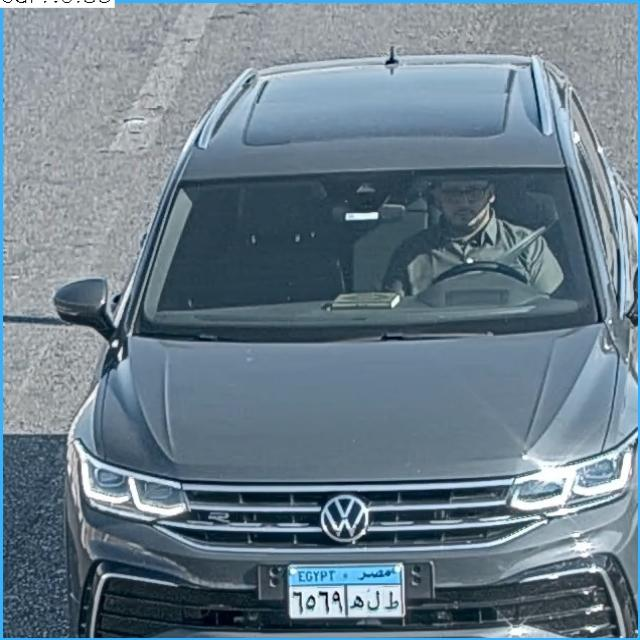windshield: (140, 173, 592, 330)
